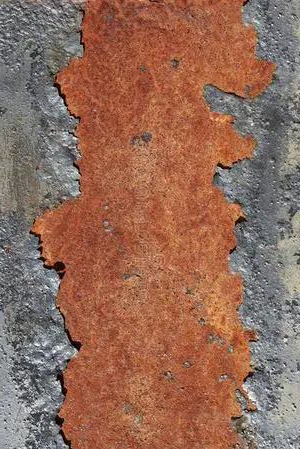Corrosion: (28, 1, 278, 449)
